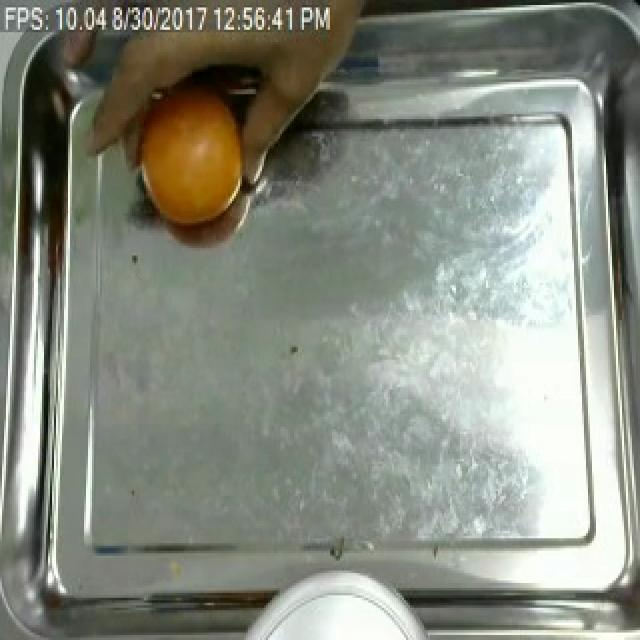Fruit: (126, 87, 254, 236)
